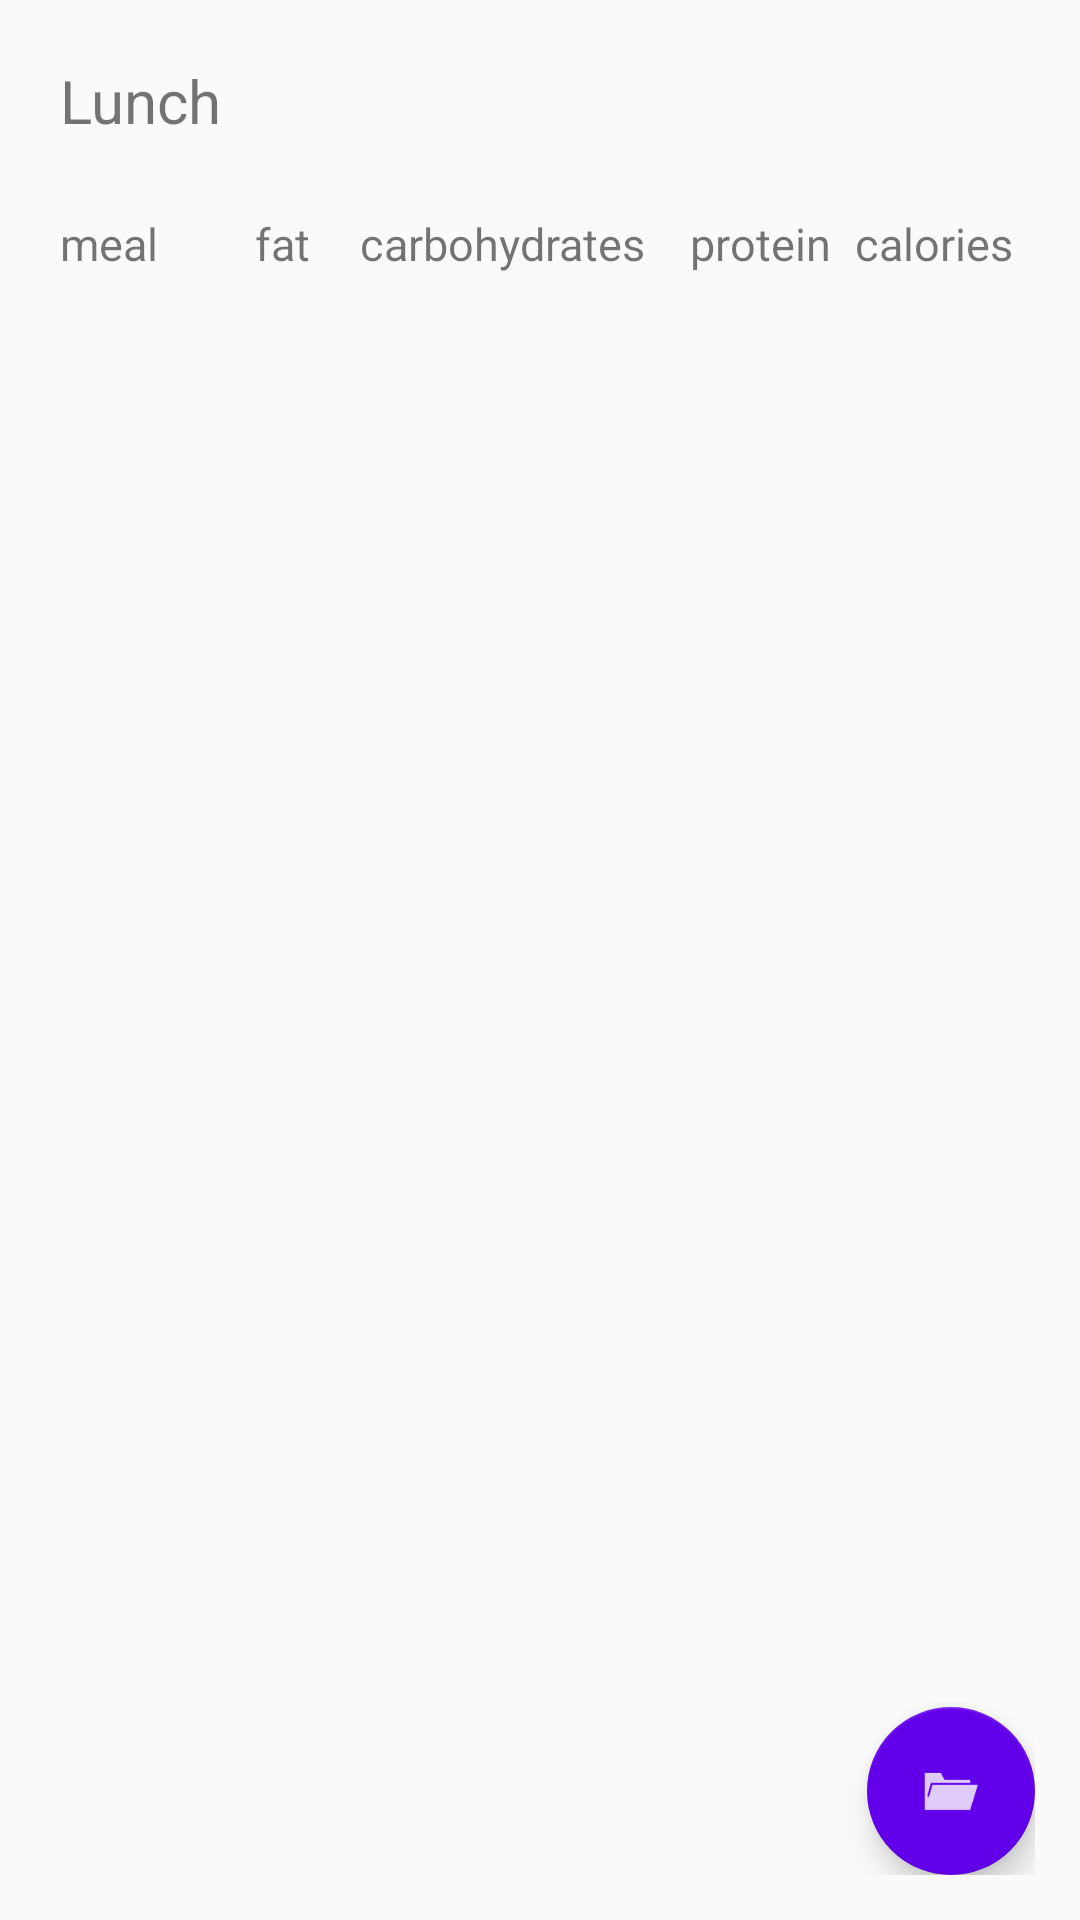

Screen size 1080 x 1920. Icon name, then its center in pixels as (x=x, y=y):
folder: (x=951, y=1791)
